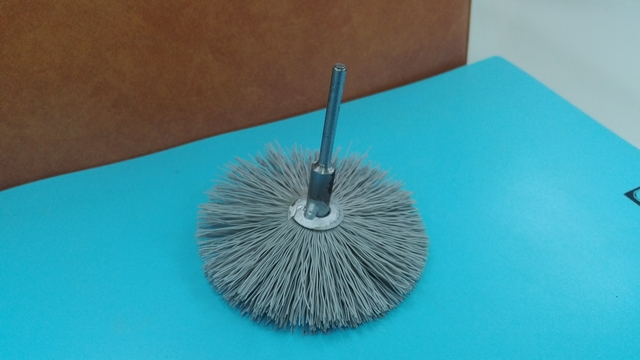TOOL: (144, 52, 488, 347), (173, 115, 460, 332), (189, 147, 452, 332)
